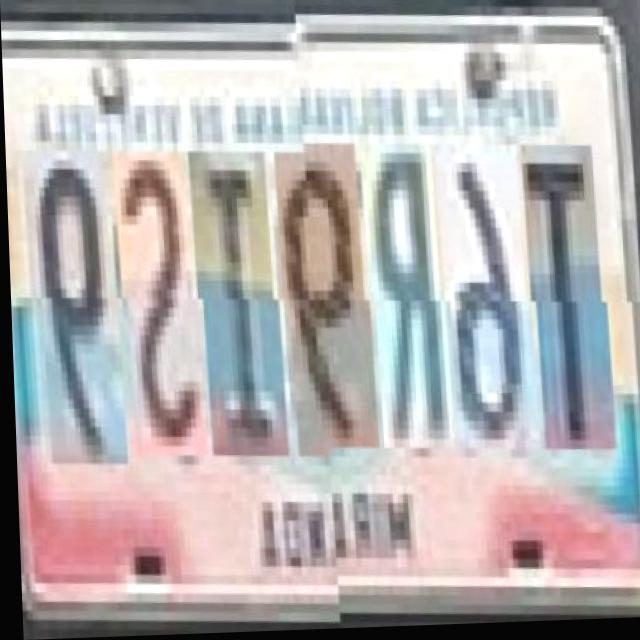6: (433, 155, 529, 466)
9: (272, 155, 368, 465), (23, 154, 116, 473)
i: (186, 156, 277, 464)
r: (357, 156, 443, 465)
s: (110, 155, 196, 464)
t: (519, 157, 605, 466)
